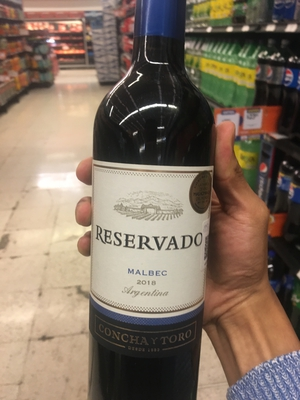reservado malbec: (94, 14, 213, 400)
